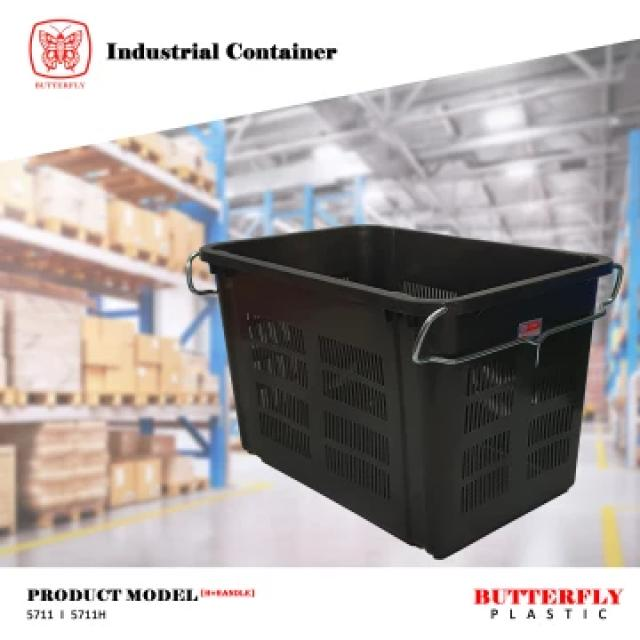basket: (166, 203, 622, 577)
